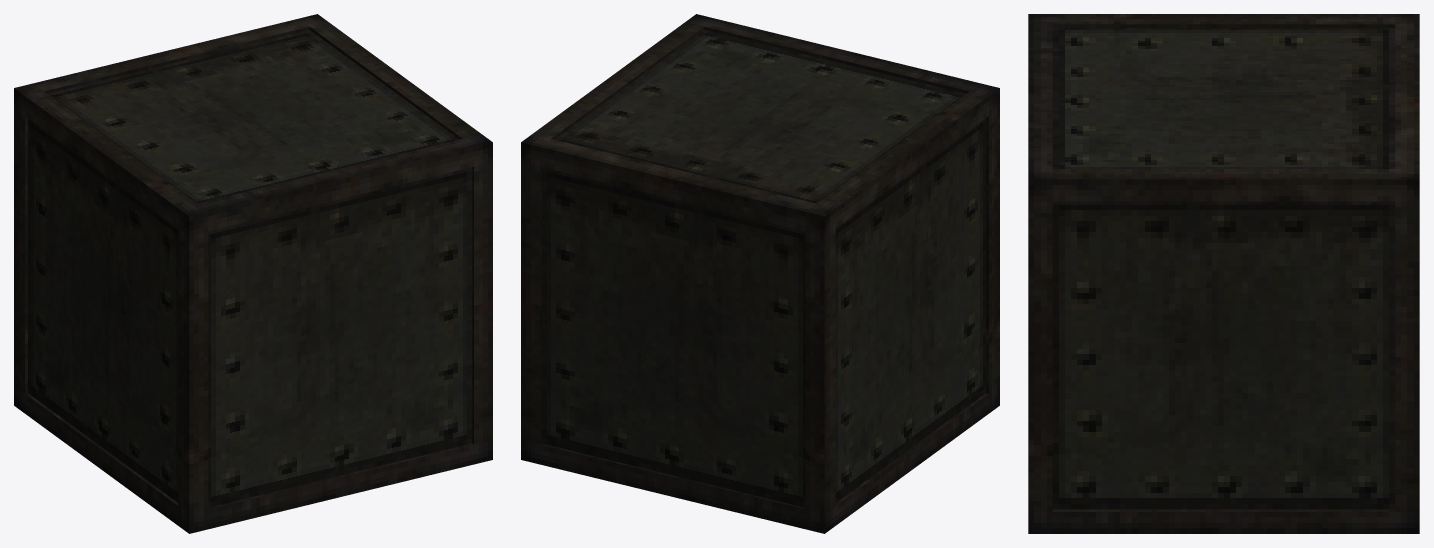
The model's file is crate_1.glb.
3 views of the same model, side by side, from view 1: azimuth 30°, elevation 25°; view 2: azimuth 150°, elevation 25°; view 3: azimuth 270°, elevation 25° (orthographic). The views are drawn at different scales.
Visible parts, largest first — view 1: crate_1; view 2: crate_1; view 3: crate_1.
Part boxes in pixels (<box>): crate_1: <box>14,14,492,533</box>; crate_1: <box>521,14,999,533</box>; crate_1: <box>1028,14,1419,533</box>.
Size of the model in its own units: 1 by 1 by 1.
1 material, 1 textured.
